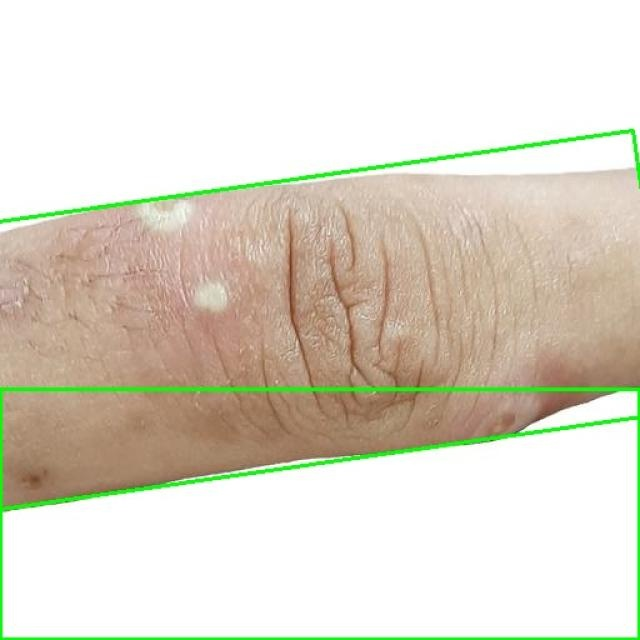Scabies: (0, 130, 640, 510), (0, 389, 639, 639)
